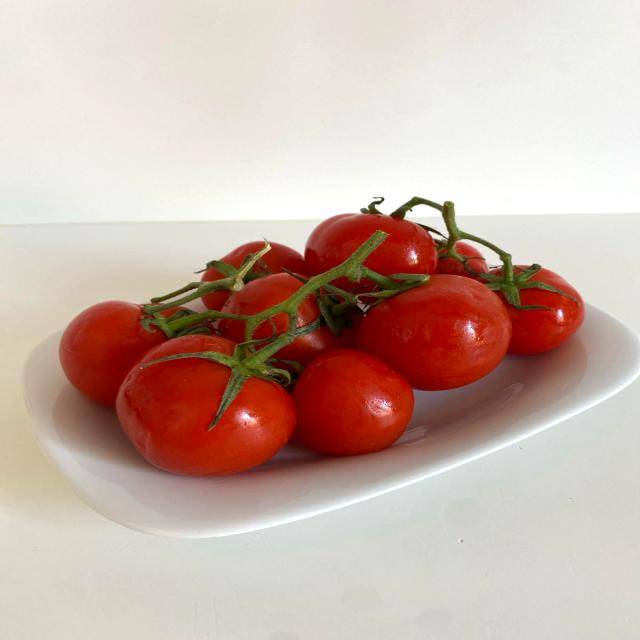tomato: (322, 254, 550, 397), (112, 323, 303, 485)
